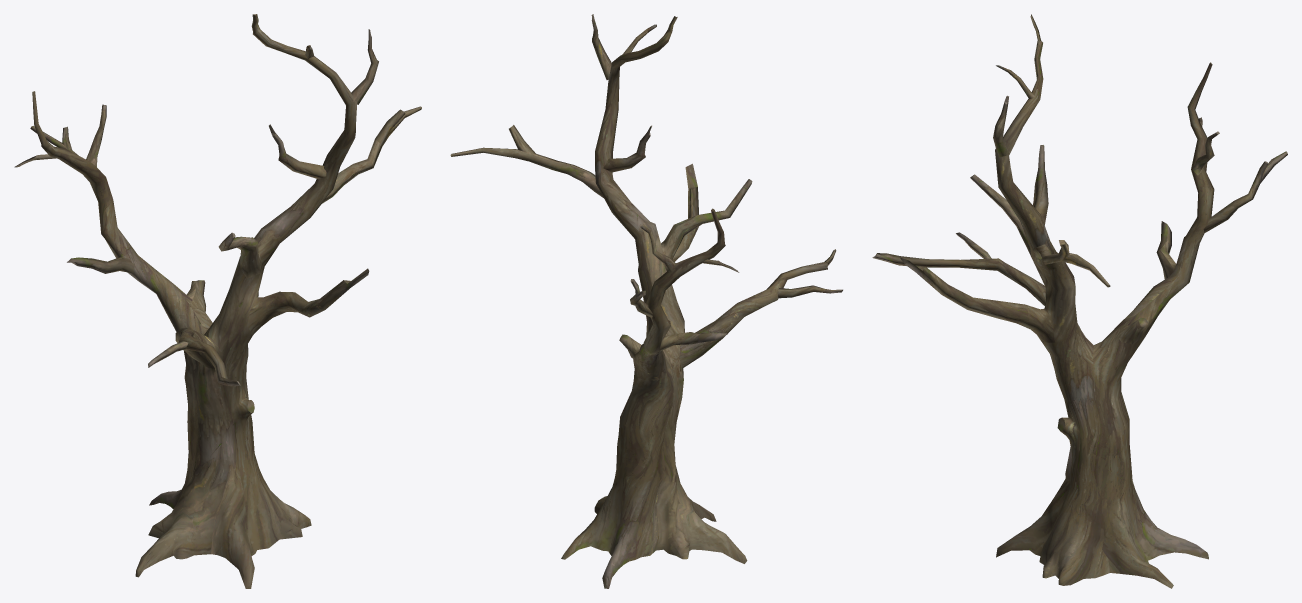
Rendered from Area_MdProps_WdDeadWood03.fbx.
3 views of the same model, side by side, from view 1: azimuth 30°, elevation 25°; view 2: azimuth 150°, elevation 25°; view 3: azimuth 270°, elevation 25° (orthographic). The views are drawn at different scales.
Visible parts, largest first — view 1: Area_MdProps_WdDeadWood03_Lod0; view 2: Area_MdProps_WdDeadWood03_Lod0; view 3: Area_MdProps_WdDeadWood03_Lod0.
Boxes of the visible parts, x1,y1,x2,y2 form: Area_MdProps_WdDeadWood03_Lod0: [14, 14, 421, 588]; Area_MdProps_WdDeadWood03_Lod0: [450, 14, 842, 588]; Area_MdProps_WdDeadWood03_Lod0: [872, 14, 1287, 588].
Size of the model in its own units: 8.81 by 12.99 by 8.86.
1 material, 1 textured.
